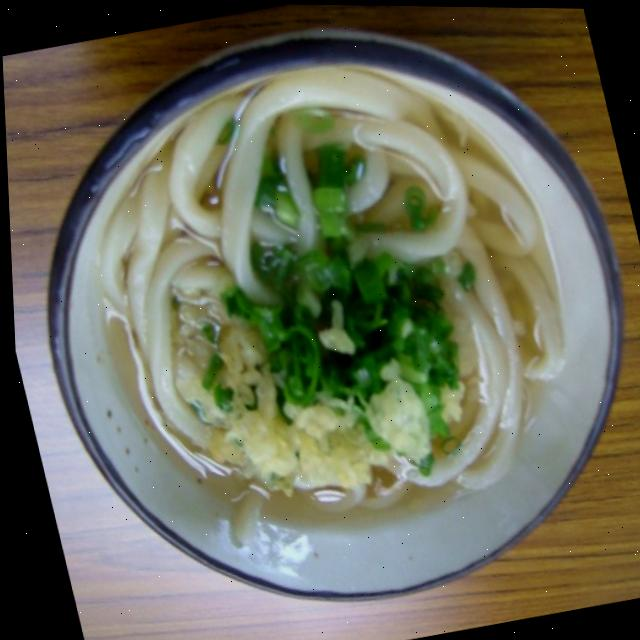面条主食: (26, 0, 635, 622)
